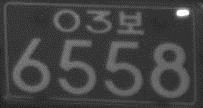0: (52, 8, 81, 33)
3: (84, 8, 113, 34)
5: (103, 40, 143, 97), (57, 38, 96, 96)
6: (11, 37, 51, 94)
8: (148, 42, 190, 99)
보: (116, 10, 144, 36)
